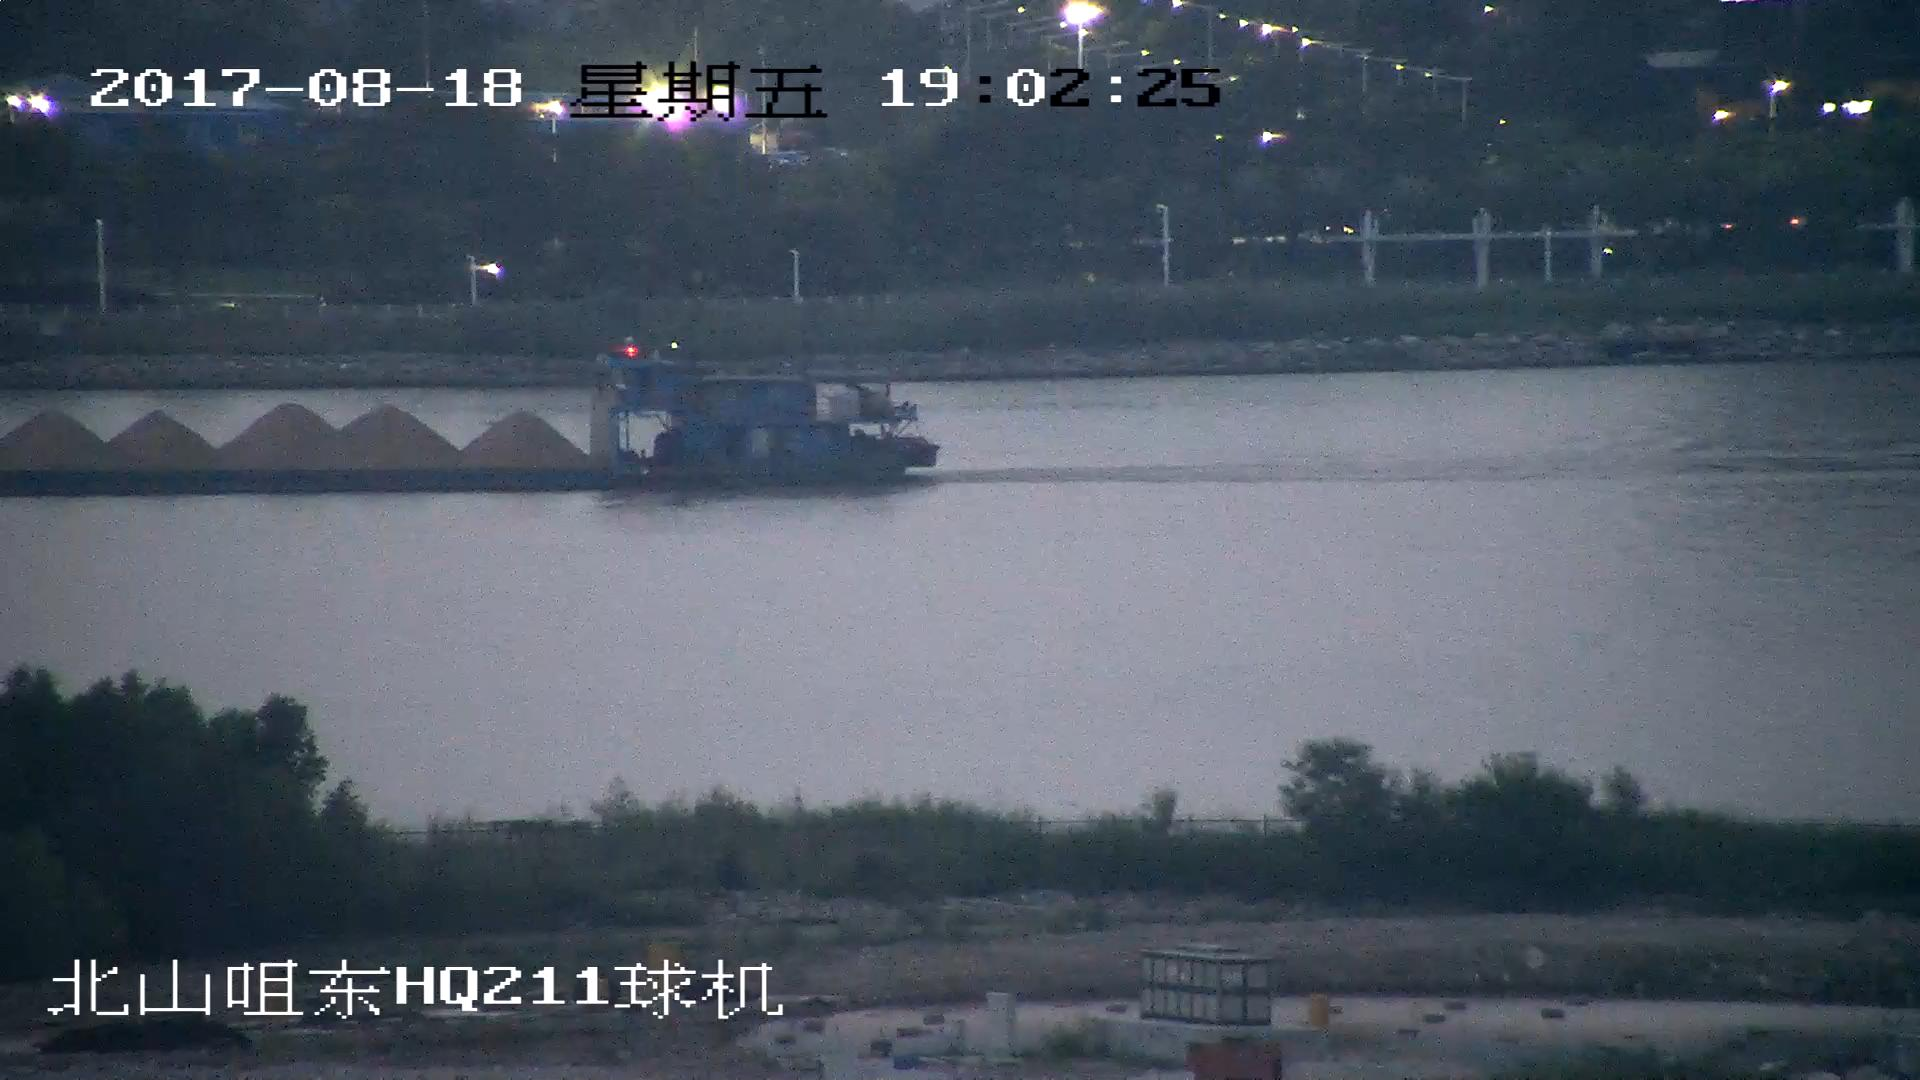ore carrier: (1, 337, 949, 494)
